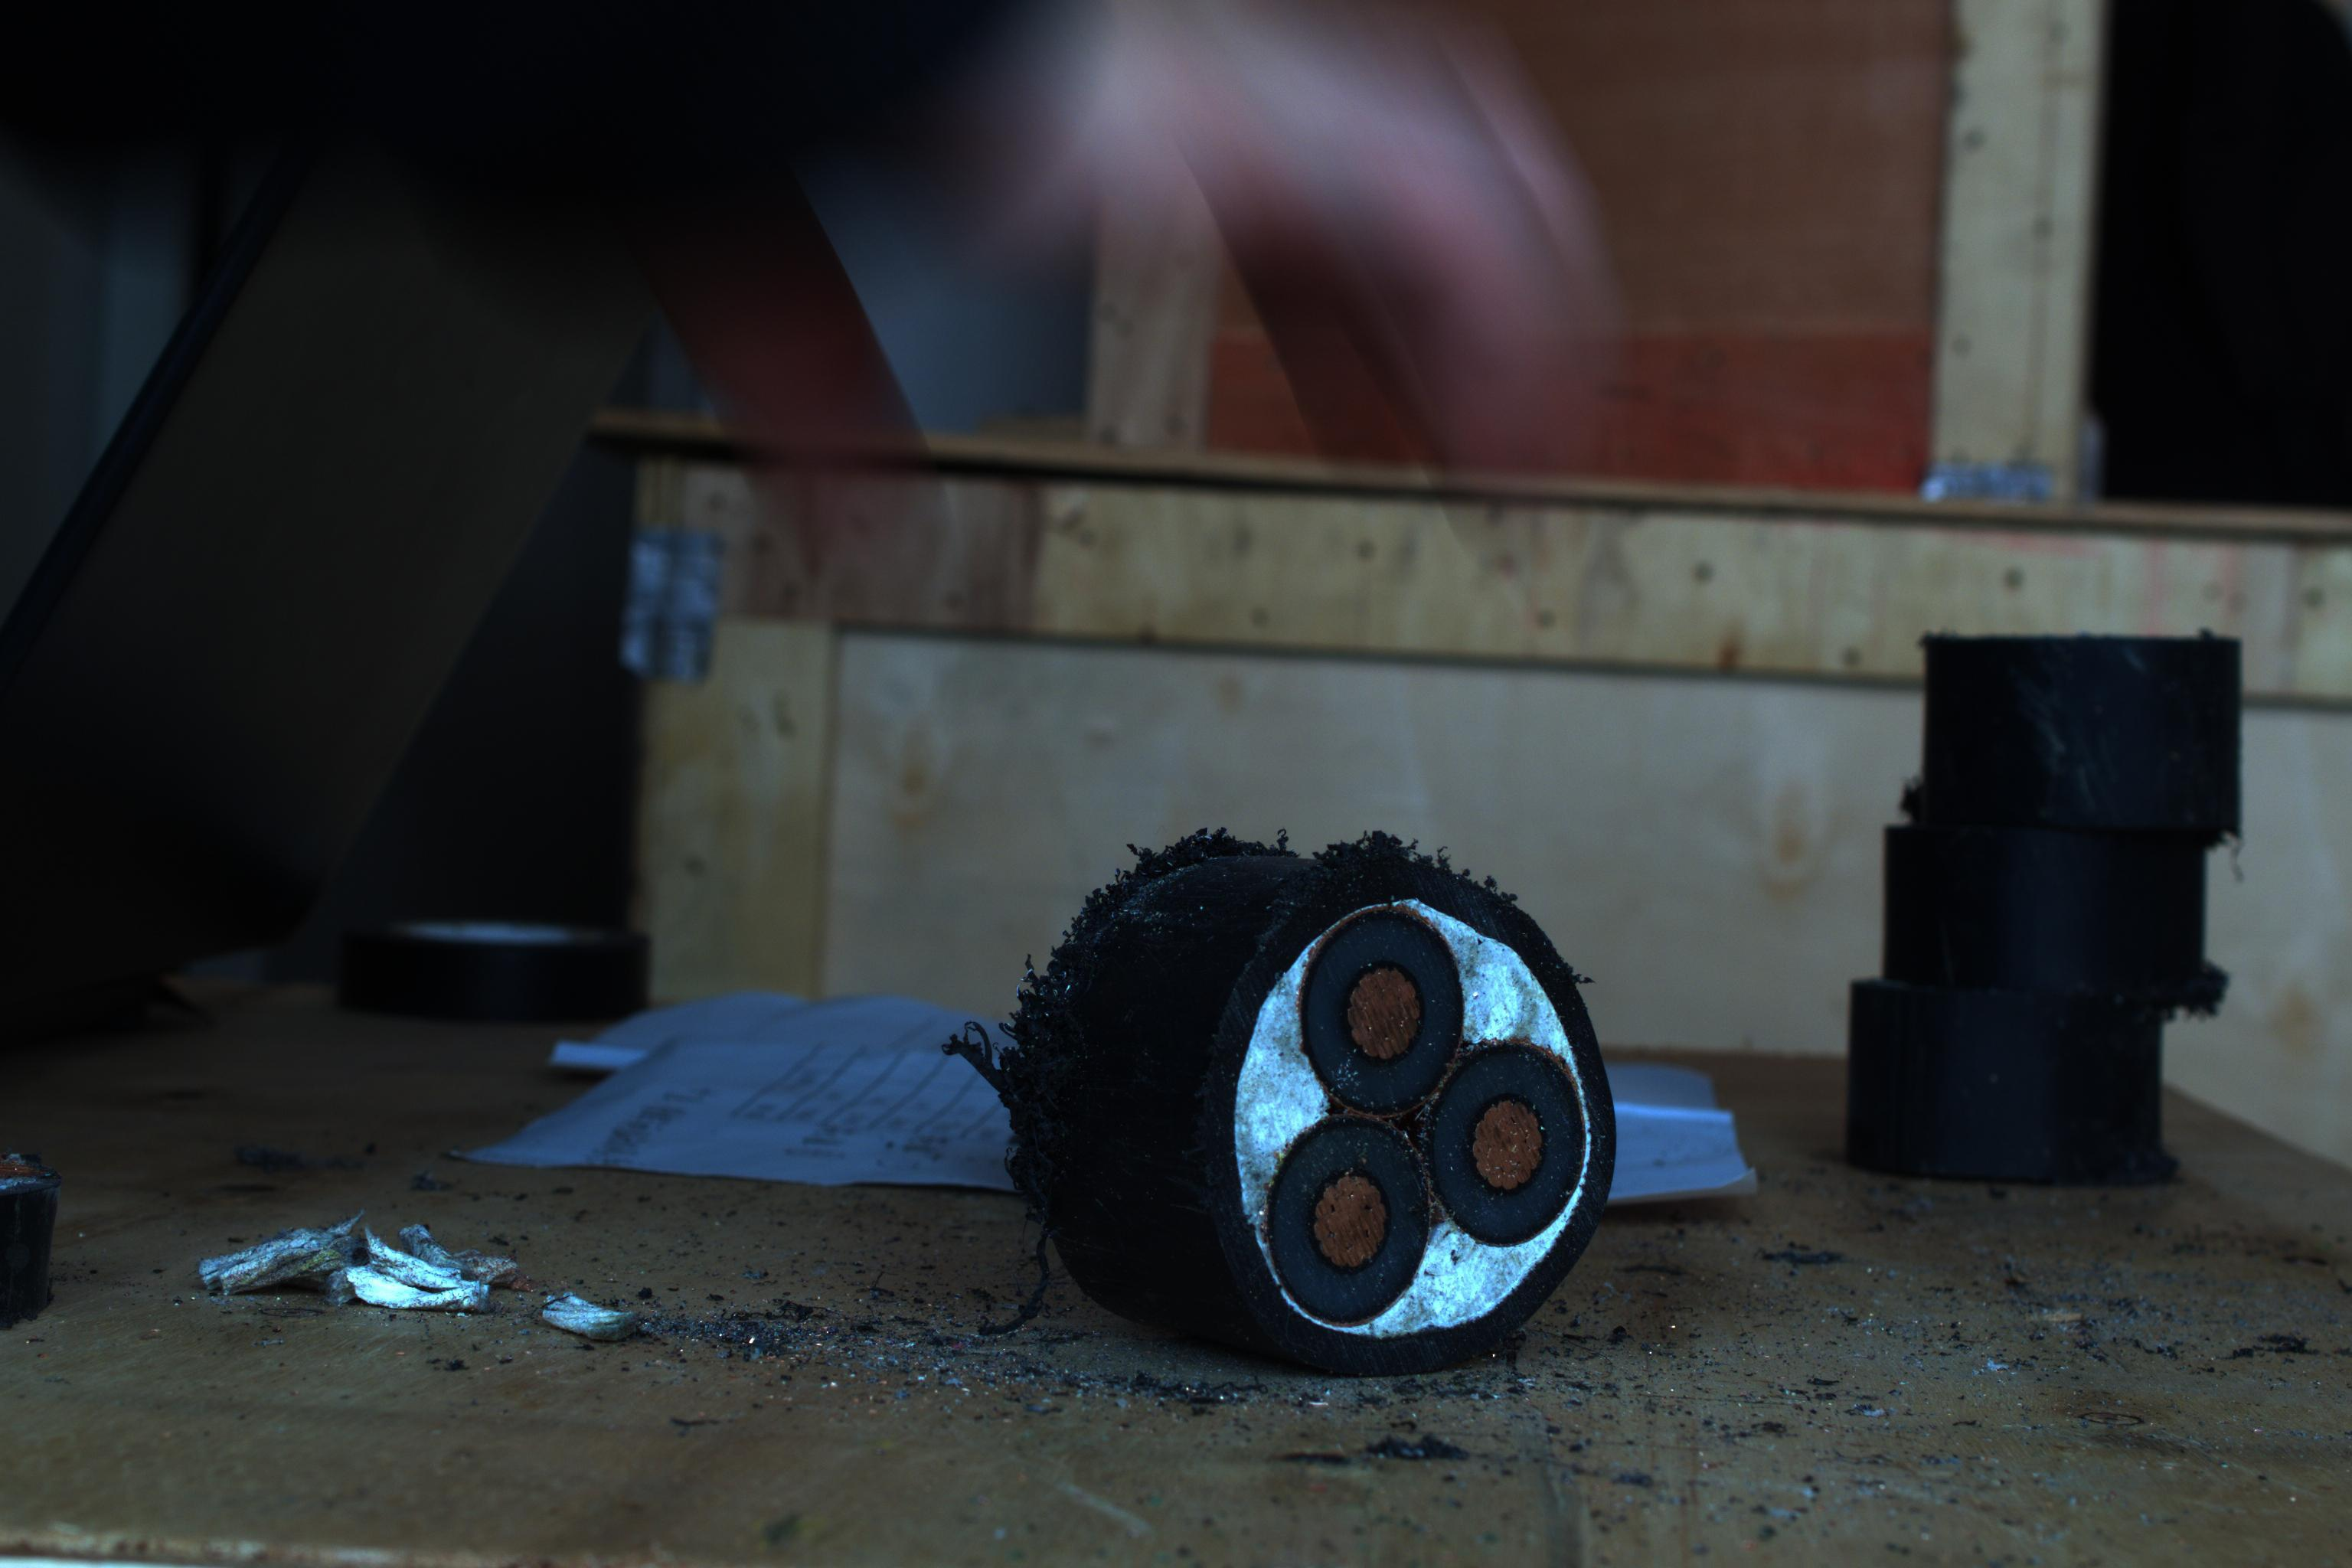YJV_8.7_10kV_3x70: (1216, 863, 1634, 1347)
